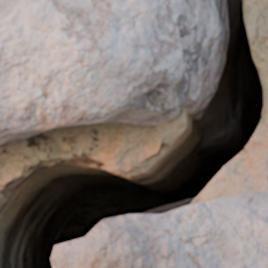brick: (0, 0, 217, 144)
broken_brick: (52, 190, 267, 267)
crack: (0, 0, 267, 267)
